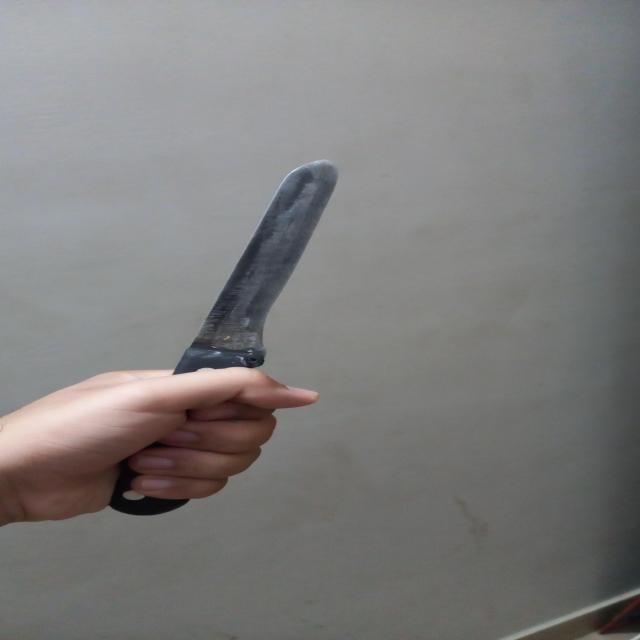Knife: (102, 158, 338, 517)
Person: (0, 366, 324, 526)
